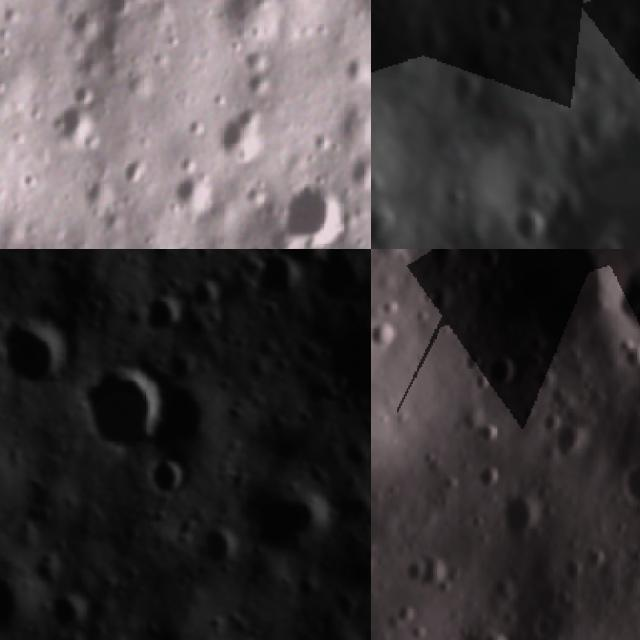crater: (518, 86, 640, 249), (242, 472, 330, 556), (89, 361, 170, 447), (578, 249, 640, 350), (273, 173, 345, 249), (4, 317, 70, 397), (208, 103, 262, 169), (489, 486, 546, 546), (53, 89, 99, 152), (498, 196, 549, 249), (442, 57, 491, 111), (474, 341, 521, 397), (602, 450, 640, 518), (470, 0, 522, 49), (256, 258, 294, 310), (48, 586, 93, 629), (138, 292, 189, 328), (79, 0, 151, 25), (201, 520, 235, 572), (143, 458, 187, 498), (113, 150, 155, 190), (545, 0, 617, 23), (171, 172, 210, 207), (266, 249, 329, 270), (0, 568, 18, 637), (188, 274, 220, 310), (371, 201, 394, 249), (30, 550, 68, 579), (581, 229, 628, 249), (471, 625, 528, 640)
